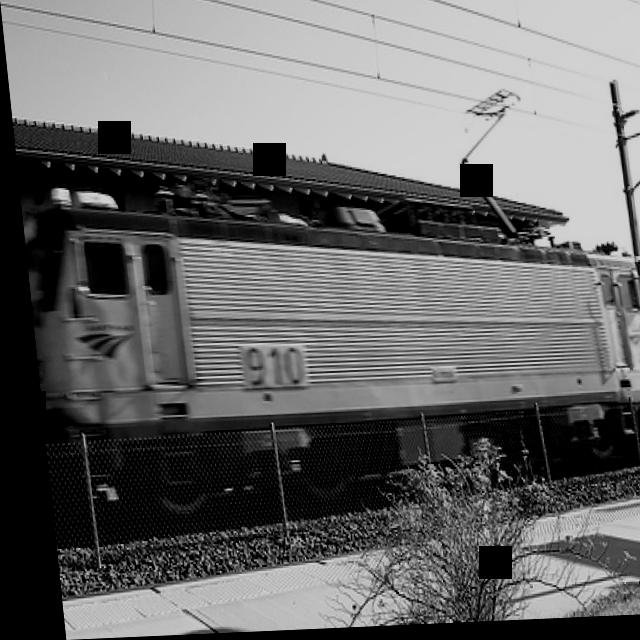locomotive: (13, 139, 640, 547)
